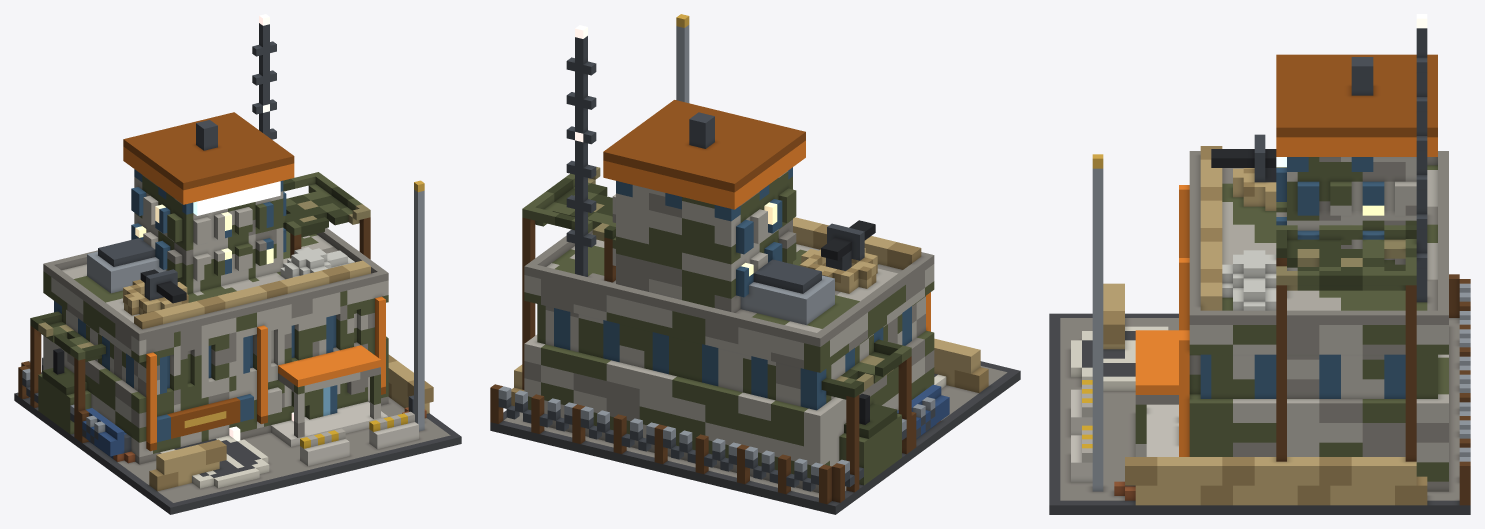
The picture shows the model from 3 angles, left to right: view 1: azimuth 30°, elevation 25°; view 2: azimuth 150°, elevation 25°; view 3: azimuth 270°, elevation 25°; orthographic projection. The views are drawn at different scales.
Visible parts, largest first — view 1: cm_hq_5_body; view 2: cm_hq_5_body; view 3: cm_hq_5_body.
Boxes of the visible parts, left/top/right/bottom form: cm_hq_5_body: left=14, top=14, right=461, bottom=514; cm_hq_5_body: left=490, top=14, right=1020, bottom=514; cm_hq_5_body: left=1049, top=14, right=1470, bottom=514.
Size of the model in its own units: 2.62 by 2.94 by 2.44.
1 material, 1 textured.
